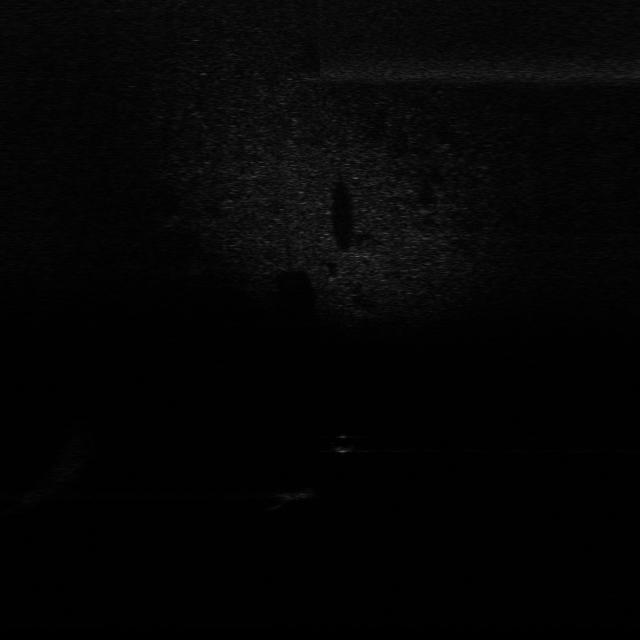ball: (326, 431, 360, 455)
square cage: (257, 480, 329, 502)
